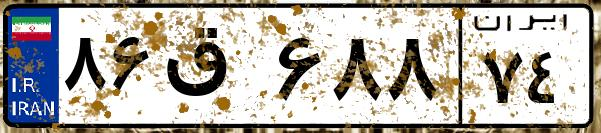4: (525, 38, 570, 115)
6: (270, 28, 330, 110), (110, 28, 158, 98)
7: (475, 38, 525, 113)
8: (385, 28, 445, 110), (330, 28, 385, 110), (57, 26, 110, 100)
ق: (158, 20, 270, 120)
